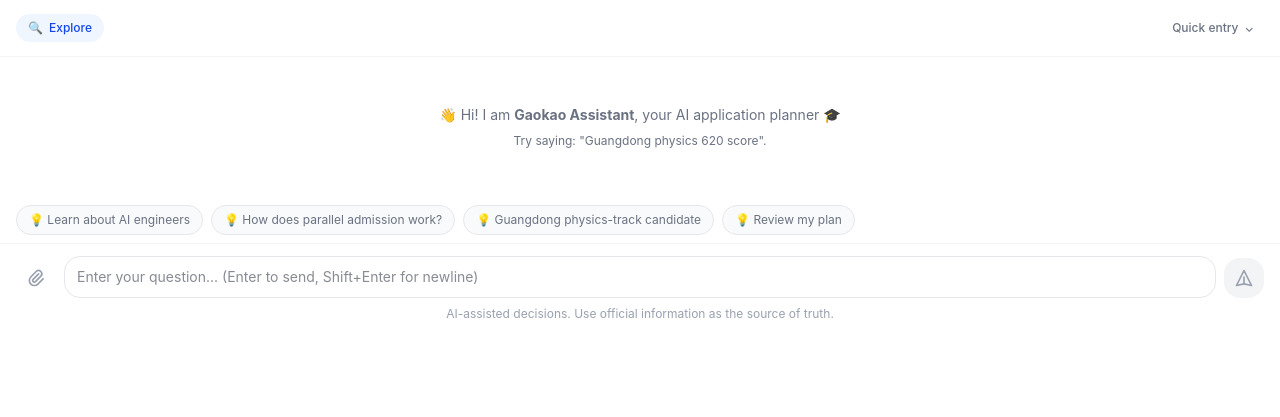
HomePage chat send › renders safe copy when chat stream fails without leaking backend details
In the text box labelled "Enter your question": {"x": 640, "y": 277} [64,256,1216,298], type "Guangdong physics 620"
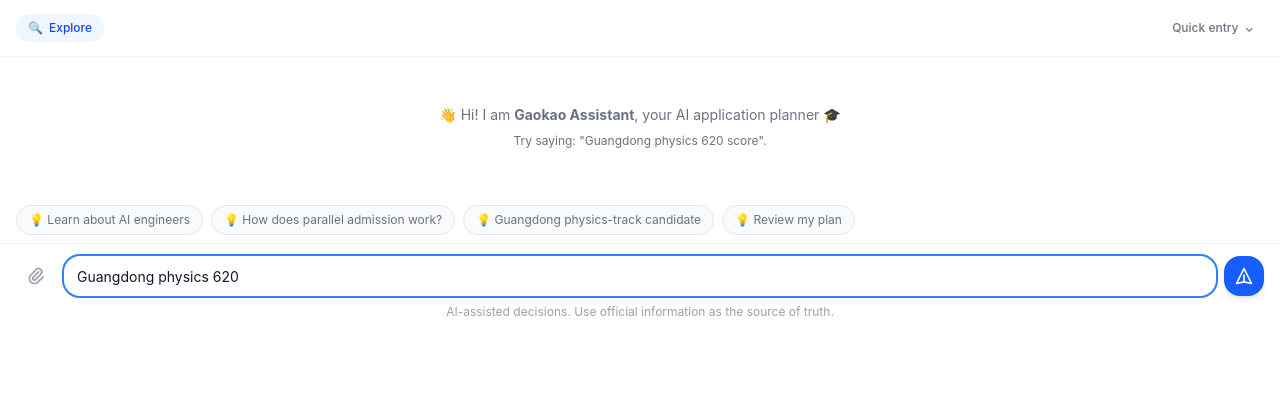
Click the button named "Send message": {"x": 1244, "y": 276} [1224,256,1264,296]
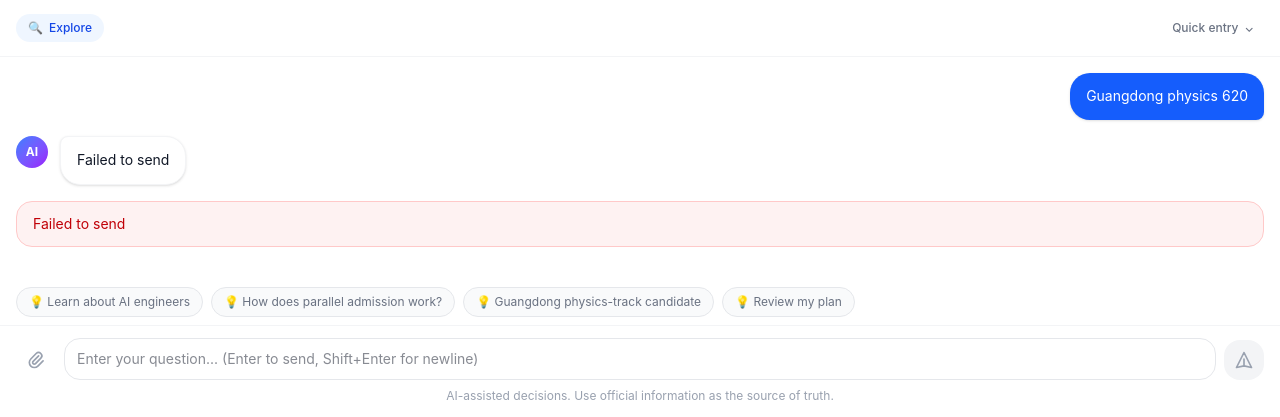
Expected: the message "Failed to send" is shown, [16,200,1264,246]
Expected: the text "Failed to send" is shown 2 times, [77,149,169,172]; [16,200,1264,246]
